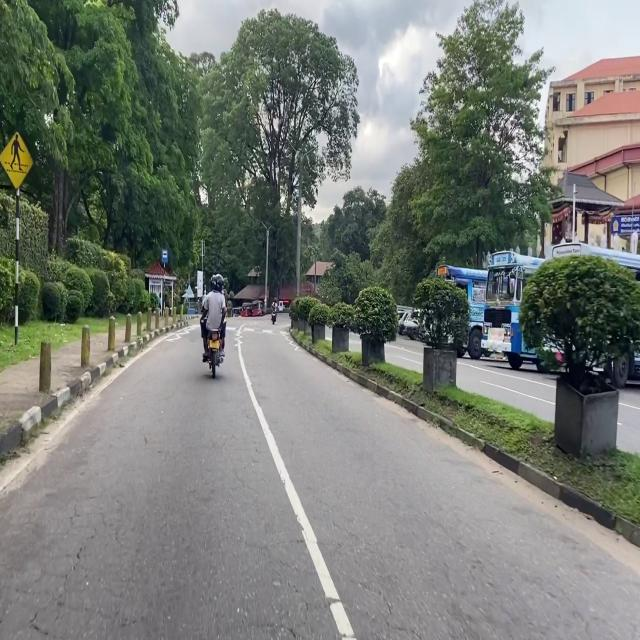bus: (482, 244, 622, 372), (539, 241, 640, 388), (437, 264, 487, 360)
motorcycle: (208, 331, 223, 377), (271, 311, 276, 324)
person: (201, 274, 226, 361), (164, 294, 170, 307), (272, 297, 277, 312)
three wheeler: (251, 300, 264, 316), (241, 303, 251, 317)
van: (404, 310, 419, 340), (398, 311, 410, 335)
